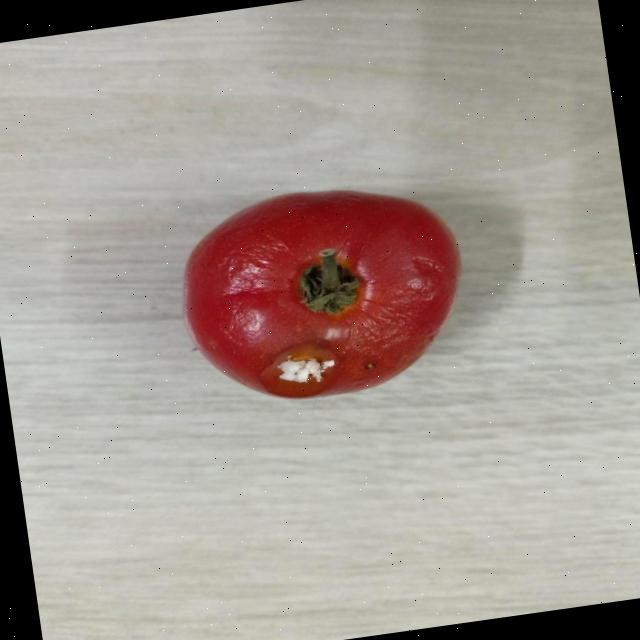Rotten: (171, 167, 476, 416)
